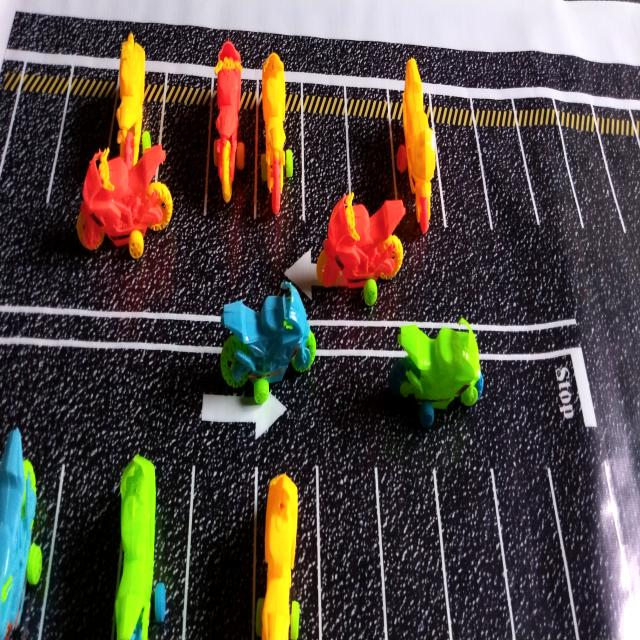bikes: (221, 281, 315, 404), (77, 145, 172, 258), (389, 319, 483, 426), (316, 193, 405, 306)
occupied: (113, 455, 191, 640), (0, 427, 59, 640), (388, 58, 446, 241), (258, 473, 320, 640), (255, 53, 304, 238), (207, 41, 255, 226), (116, 33, 164, 164)
slots: (552, 448, 640, 640), (494, 469, 575, 638), (379, 465, 455, 640), (46, 468, 120, 640), (441, 461, 510, 640), (186, 463, 254, 640), (320, 467, 383, 640), (0, 84, 64, 219), (50, 98, 113, 229), (478, 121, 539, 232), (159, 87, 209, 215), (435, 123, 489, 228), (520, 125, 577, 222), (562, 129, 619, 226), (304, 112, 348, 229), (348, 115, 394, 215), (603, 136, 640, 233)
